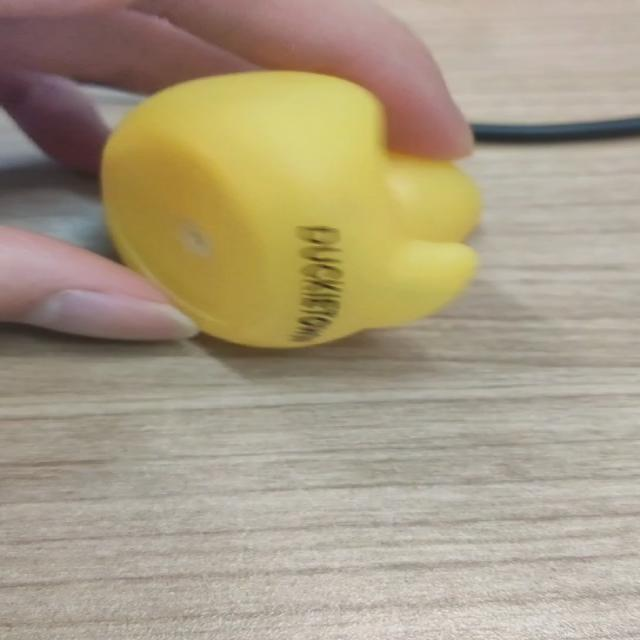rubber-duck: (100, 70, 479, 345)
